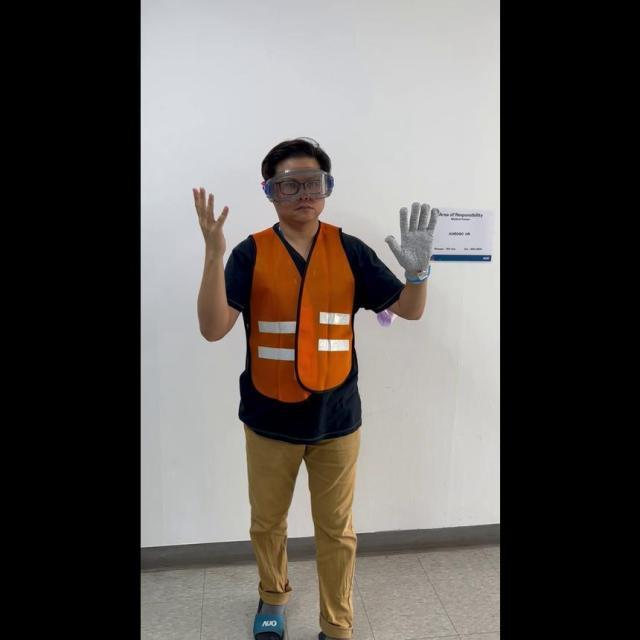bare_hand: (191, 178, 228, 260)
gloved_hand: (382, 196, 438, 281)
